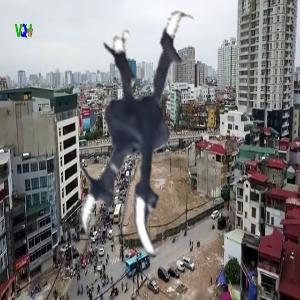drone: (39, 17, 282, 260)
